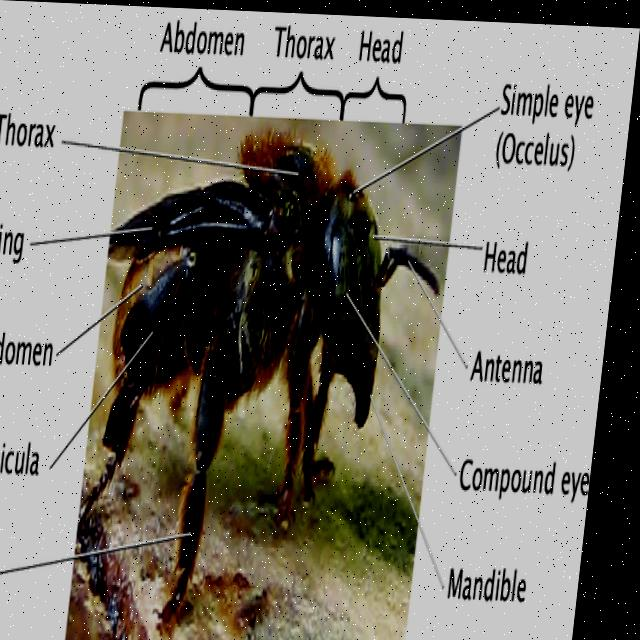Xylocopa: (88, 116, 458, 640)
